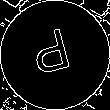P_S: (31, 26, 79, 84)
